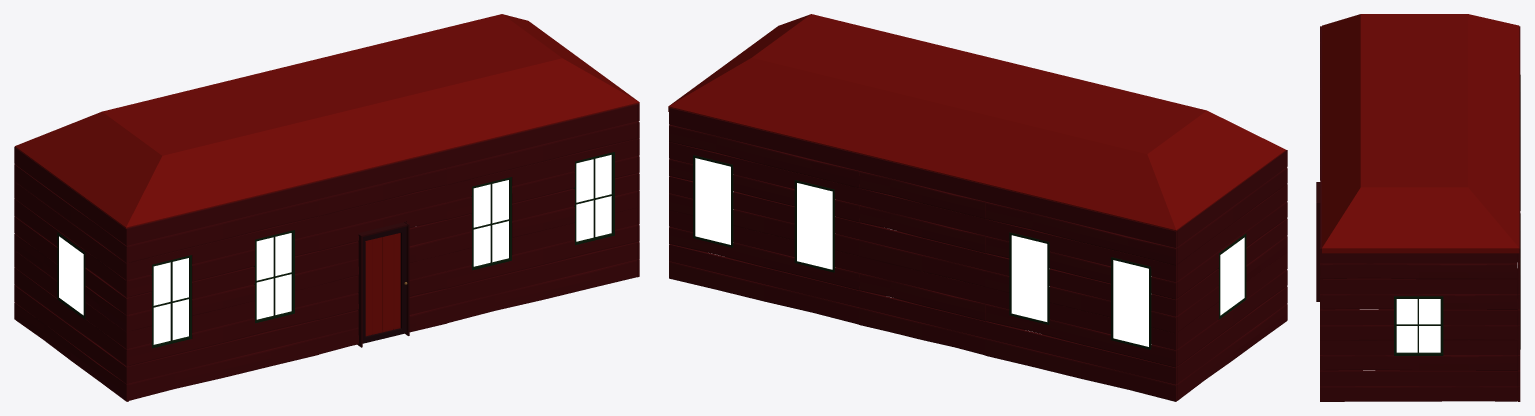
Rendered from d2h_house2.fbx.
3 renders of one model, left to right at view 1: azimuth 30°, elevation 25°; view 2: azimuth 150°, elevation 25°; view 3: azimuth 270°, elevation 25°, orthographic. The views are drawn at different scales.
Parts seen in each view (by area): view 1: roof, front_wall_r, front_wall_r.001, walla.001, front_wall_mid, door_unit.001; view 2: roof, front_wall_r.004, front_wall_r.003, front_wall_mid.001, walla.001; view 3: roof, walla, front_wall_r.003, door_unit.001, front_wall_r.004, front_wall_r.
Boxes of the visible parts, left/top/right/bottom form: roof: left=15, top=14, right=639, bottom=228; front_wall_r: left=446, top=103, right=638, bottom=322; front_wall_r.001: left=126, top=181, right=319, bottom=400; walla.001: left=15, top=148, right=128, bottom=401; front_wall_mid: left=318, top=150, right=447, bottom=354; door_unit.001: left=357, top=221, right=409, bottom=347; roof: left=668, top=14, right=1286, bottom=230; front_wall_r.004: left=985, top=185, right=1177, bottom=401; front_wall_r.003: left=669, top=107, right=859, bottom=324; front_wall_mid.001: left=859, top=154, right=985, bottom=355; walla.001: left=1177, top=150, right=1287, bottom=400; roof: left=1322, top=14, right=1519, bottom=253; walla: left=1320, top=248, right=1517, bottom=401; front_wall_r.003: left=1517, top=165, right=1520, bottom=401; door_unit.001: left=1316, top=182, right=1320, bottom=301; front_wall_r.004: left=1519, top=26, right=1520, bottom=210; front_wall_r: left=1320, top=165, right=1322, bottom=401.
Bounding box in the file's own units: 976 × 392 × 378.
